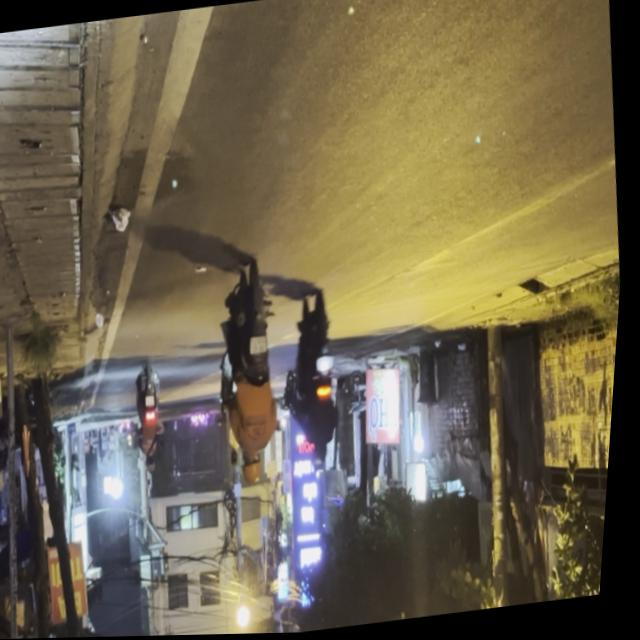helmet: (246, 454, 271, 488)
licenseplate: (207, 261, 300, 492)
nohelmet: (252, 336, 273, 356)
